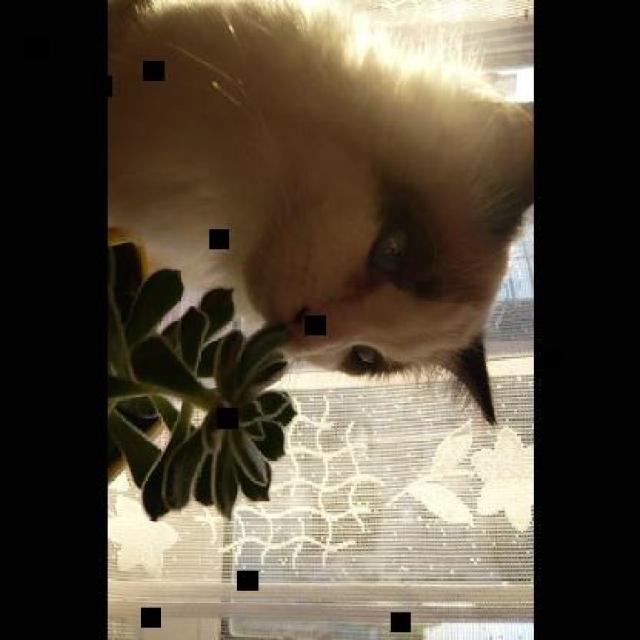unauthorized: (106, 0, 534, 428)
